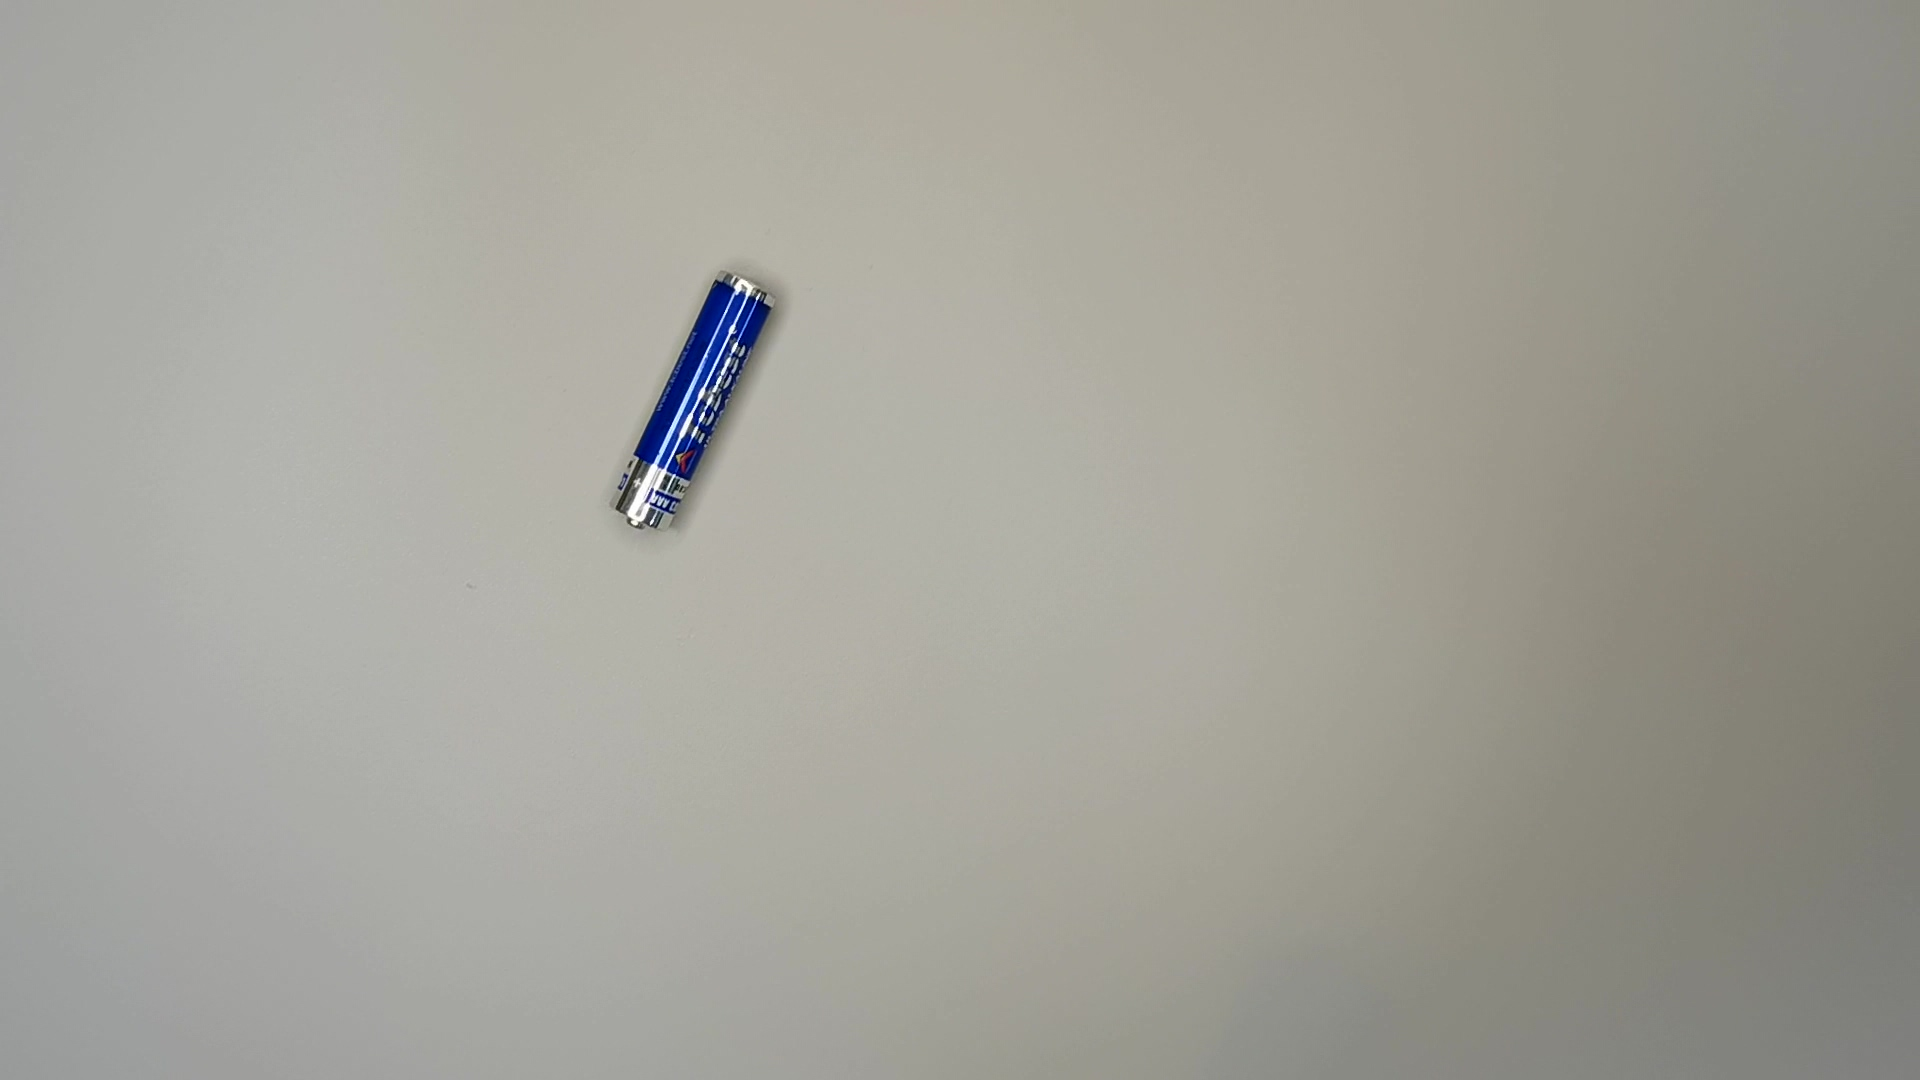battery: (608, 266, 800, 534)
